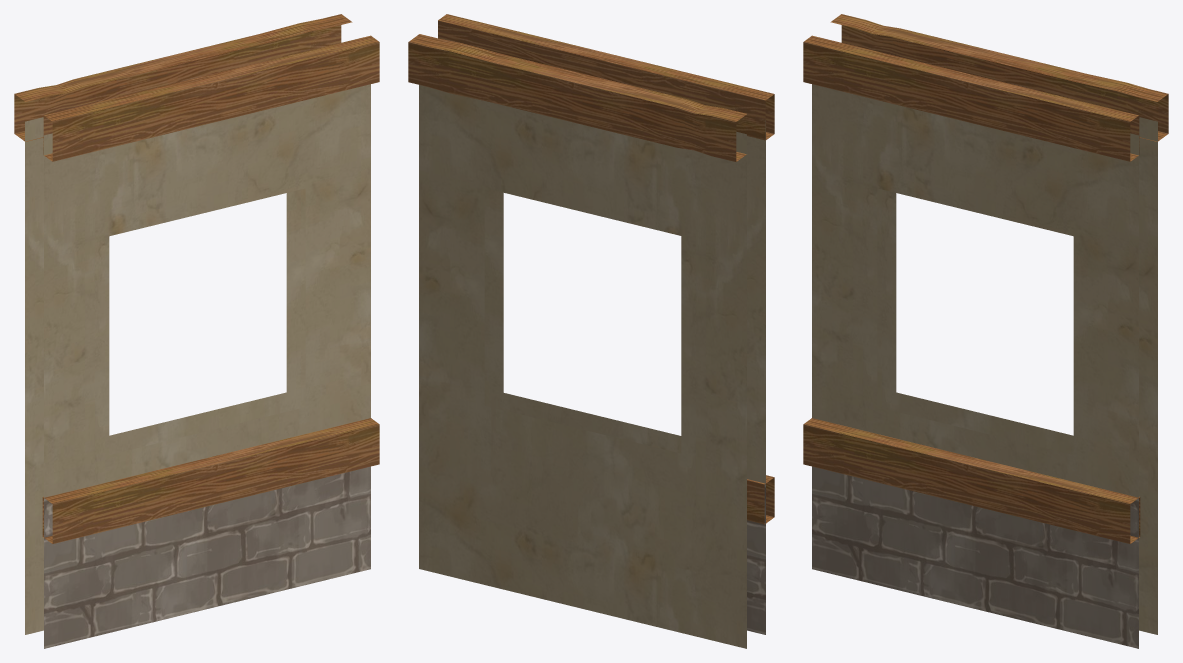
The model's file is Wall_Plaster_Window_Wide_Flat.gltf.
3 views of the same model, side by side, from view 1: azimuth 30°, elevation 25°; view 2: azimuth 150°, elevation 25°; view 3: azimuth 330°, elevation 25° (orthographic).
Visible parts, largest first — view 1: Wall_Plaster_Window_Wide_Flat; view 2: Wall_Plaster_Window_Wide_Flat; view 3: Wall_Plaster_Window_Wide_Flat.
Boxes of the visible parts, x1,y1,x2,y2 form: Wall_Plaster_Window_Wide_Flat: [14, 14, 379, 648]; Wall_Plaster_Window_Wide_Flat: [408, 14, 774, 648]; Wall_Plaster_Window_Wide_Flat: [803, 14, 1168, 648].
Size of the model in its own units: 2 by 3.12 by 0.4065.
3 materials, 3 textured.
